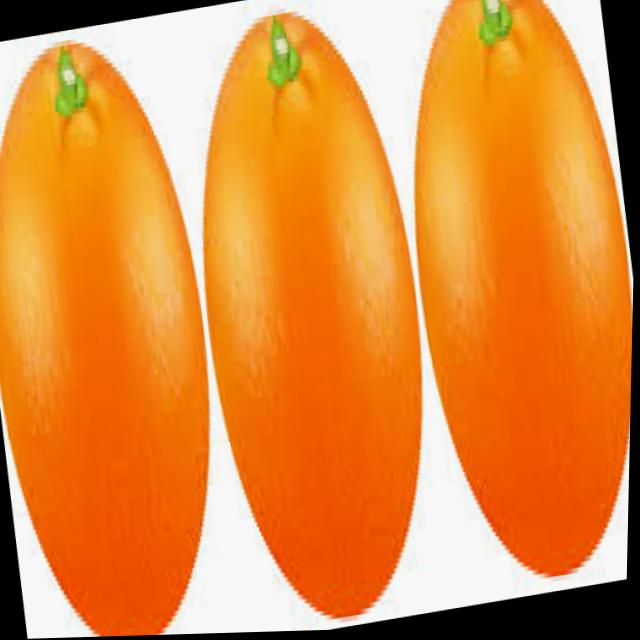orange: (165, 0, 464, 636), (374, 0, 640, 602), (0, 19, 255, 640)
